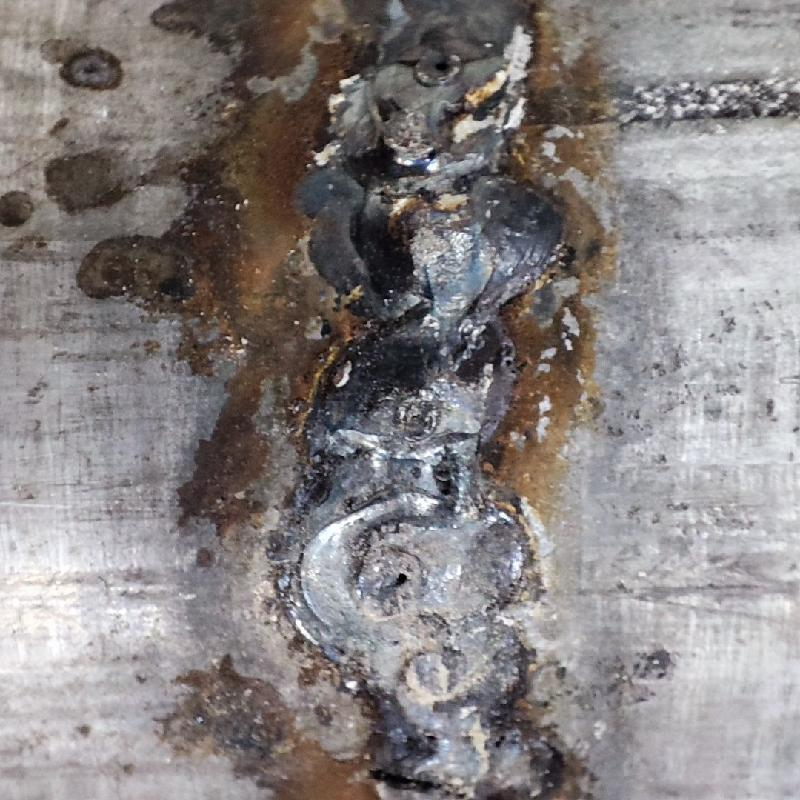Surface_pores: (360, 555, 443, 619), (422, 43, 471, 85)
wrong_size: (337, 6, 549, 456)
